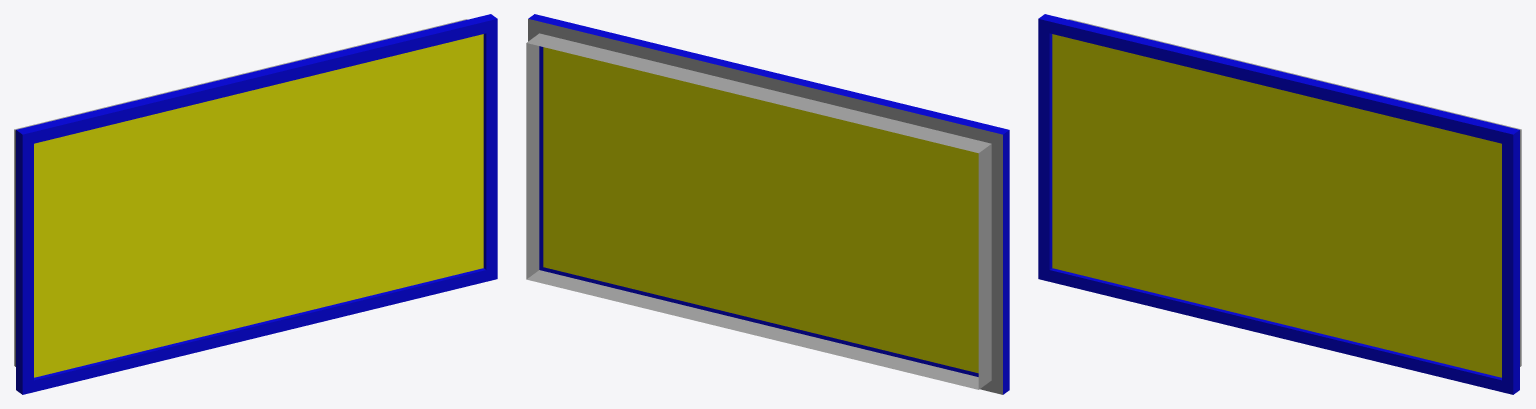
Rendered from Window4.fbx.
The picture shows the model from 3 angles, left to right: view 1: azimuth 30°, elevation 25°; view 2: azimuth 150°, elevation 25°; view 3: azimuth 330°, elevation 25°; orthographic projection.
Parts seen in each view (by area): view 1: Window4; view 2: Window4; view 3: Window4.
Boxes of the visible parts, bbox=[...] form: Window4: bbox=[14, 14, 497, 394]; Window4: bbox=[526, 14, 1009, 394]; Window4: bbox=[1038, 14, 1521, 394].
Size of the model in its own units: 210 by 110 by 15.
